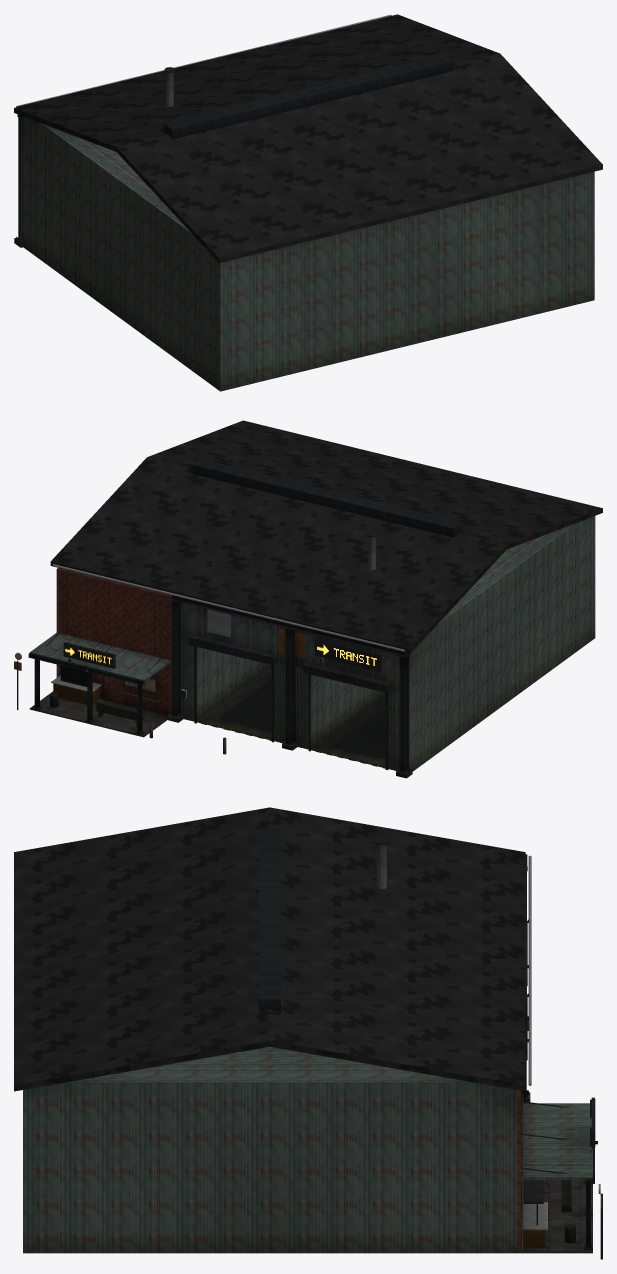
Rendered from transit_depot.glb.
The picture shows the model from 3 angles, top to bottom: view 1: azimuth 30°, elevation 25°; view 2: azimuth 150°, elevation 25°; view 3: azimuth 270°, elevation 25°; orthographic projection. The views are drawn at different scales.
Visible parts, largest first — view 1: transit_depot; view 2: transit_depot; view 3: transit_depot.
Part boxes in pixels (bbox=[...]): transit_depot: bbox=[14, 14, 602, 391]; transit_depot: bbox=[14, 420, 602, 778]; transit_depot: bbox=[14, 807, 602, 1259].
Size of the model in its own units: 25.15 by 11.88 by 26.25.
